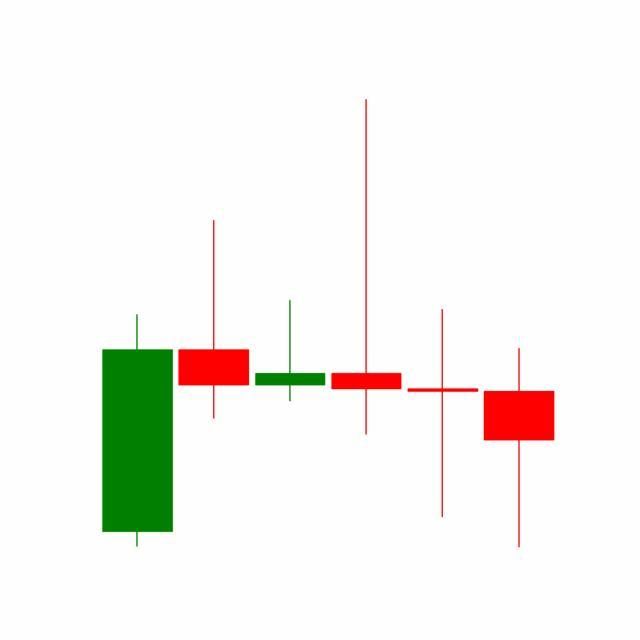Spinning Top: (404, 307, 482, 520)
